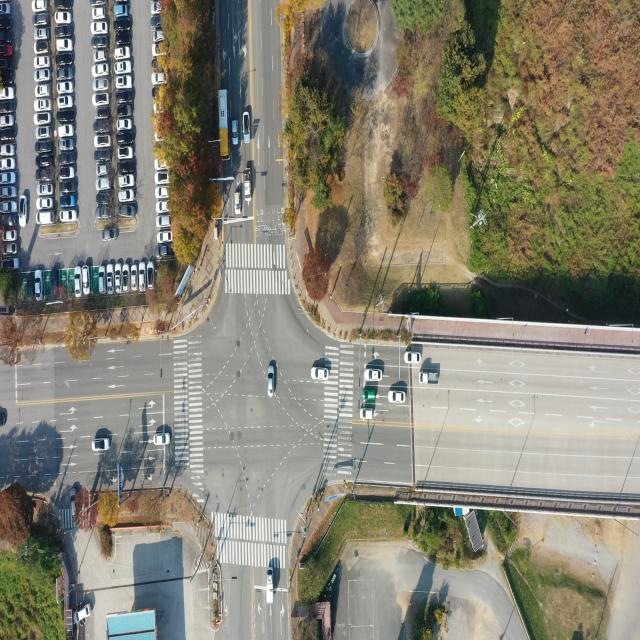car: (74, 604, 92, 629), (57, 110, 76, 126), (243, 111, 251, 143), (36, 212, 54, 226), (266, 366, 274, 396), (19, 198, 27, 228), (366, 368, 384, 381), (312, 366, 330, 379), (74, 269, 82, 298), (94, 440, 111, 453), (389, 391, 406, 404), (3, 259, 20, 272), (36, 141, 53, 154), (56, 52, 73, 65), (0, 89, 15, 103), (0, 72, 15, 86), (116, 132, 135, 143), (0, 173, 16, 186), (61, 210, 77, 223), (0, 186, 16, 199), (58, 39, 74, 52), (118, 189, 134, 202), (56, 11, 72, 24), (0, 202, 16, 215), (116, 92, 132, 105), (60, 168, 76, 181), (115, 32, 131, 45), (0, 103, 16, 116), (118, 206, 135, 218), (95, 136, 112, 148), (0, 114, 14, 128), (151, 72, 165, 86), (152, 43, 166, 57), (83, 268, 90, 296), (107, 266, 114, 294), (0, 144, 15, 157), (116, 76, 131, 89), (59, 98, 74, 111), (59, 126, 74, 139), (113, 5, 128, 18), (95, 94, 110, 107), (34, 57, 49, 70), (33, 13, 48, 26), (33, 65, 48, 78), (1, 130, 16, 143), (118, 176, 134, 188), (0, 160, 16, 172), (58, 84, 74, 96), (61, 198, 77, 210), (58, 69, 74, 81), (114, 47, 130, 59), (36, 158, 52, 170), (94, 78, 110, 90), (60, 155, 76, 167), (158, 217, 172, 230), (158, 245, 172, 258), (0, 30, 13, 44), (122, 266, 129, 292), (115, 265, 122, 291), (132, 266, 139, 292), (117, 17, 131, 30), (94, 65, 109, 77), (60, 140, 75, 152), (35, 100, 50, 112), (406, 352, 421, 364), (93, 23, 108, 35), (117, 147, 132, 159), (35, 70, 50, 82), (115, 62, 130, 74), (96, 150, 111, 162), (35, 86, 50, 98), (116, 106, 131, 118), (35, 113, 50, 125), (62, 182, 77, 194), (119, 163, 134, 175), (95, 120, 110, 132), (156, 433, 172, 444), (36, 171, 52, 182), (57, 27, 73, 38), (34, 272, 40, 301), (56, 0, 73, 10), (0, 43, 13, 56), (159, 233, 173, 245), (32, 0, 46, 12), (359, 410, 373, 422), (97, 179, 111, 191), (103, 231, 117, 243), (97, 208, 111, 220), (34, 29, 48, 41), (36, 128, 50, 140), (52, 268, 58, 296), (28, 274, 34, 302), (0, 18, 12, 32), (150, 16, 162, 30), (37, 200, 52, 211), (94, 37, 109, 48), (148, 263, 154, 290), (100, 267, 106, 294), (158, 202, 170, 215), (157, 173, 170, 185), (93, 7, 106, 19), (35, 41, 48, 53), (234, 120, 240, 146), (141, 266, 147, 292), (0, 59, 12, 72), (95, 194, 108, 206), (38, 185, 52, 196), (117, 119, 131, 130), (118, 50, 132, 61), (97, 108, 111, 119), (362, 389, 376, 400), (151, 57, 162, 71), (158, 186, 170, 198), (236, 190, 242, 214), (156, 160, 168, 172), (0, 2, 11, 15), (95, 52, 108, 63), (5, 244, 18, 255), (3, 232, 16, 243), (97, 166, 109, 177), (150, 2, 160, 15), (153, 31, 163, 42), (92, 0, 106, 7), (0, 414, 7, 428)
large_bus: (218, 89, 228, 161)
small_truck: (266, 566, 274, 603), (420, 372, 439, 386), (243, 165, 250, 203), (1, 212, 17, 225)
